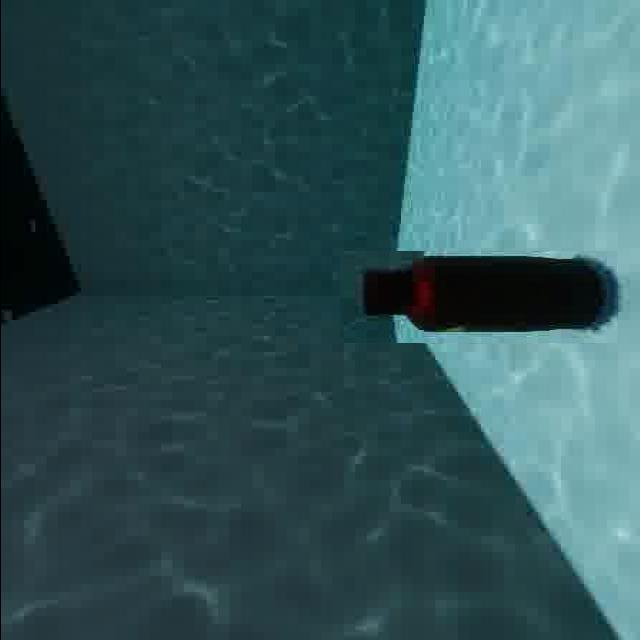Cylinder: (339, 251, 616, 343)
